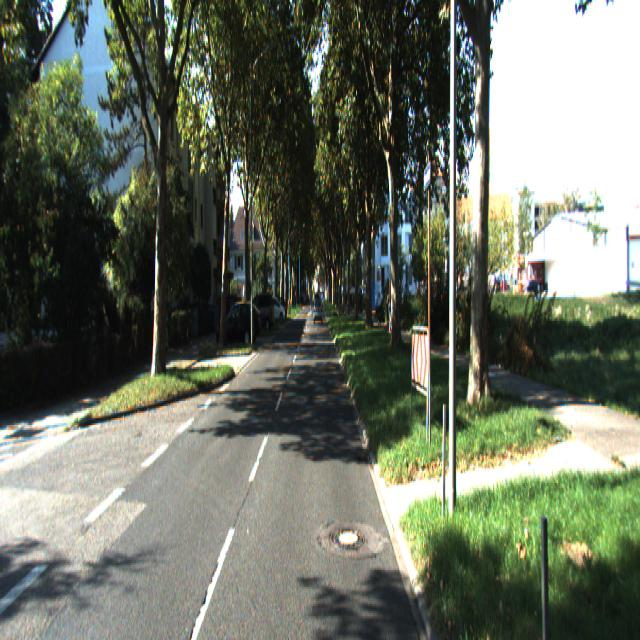Car: (219, 304, 257, 353)
